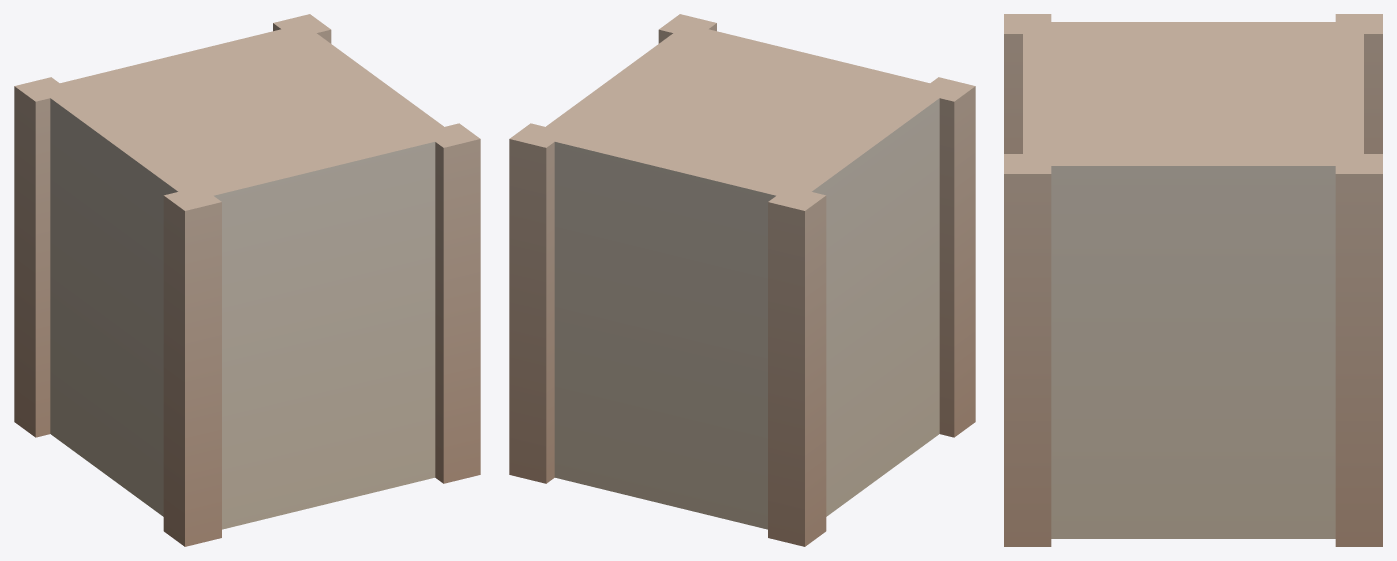
The model's file is tower-square-mid.glb.
The picture shows the model from 3 angles, left to right: view 1: azimuth 30°, elevation 25°; view 2: azimuth 150°, elevation 25°; view 3: azimuth 270°, elevation 25°; orthographic projection. The views are drawn at different scales.
Parts seen in each view (by area): view 1: tower-square-mid; view 2: tower-square-mid; view 3: tower-square-mid.
Boxes of the visible parts, x1,y1,x2,y2 form: tower-square-mid: (14, 14, 480, 546); tower-square-mid: (509, 14, 975, 546); tower-square-mid: (1004, 14, 1382, 546).
Size of the model in its own units: 0.93 by 1.01 by 0.93.
